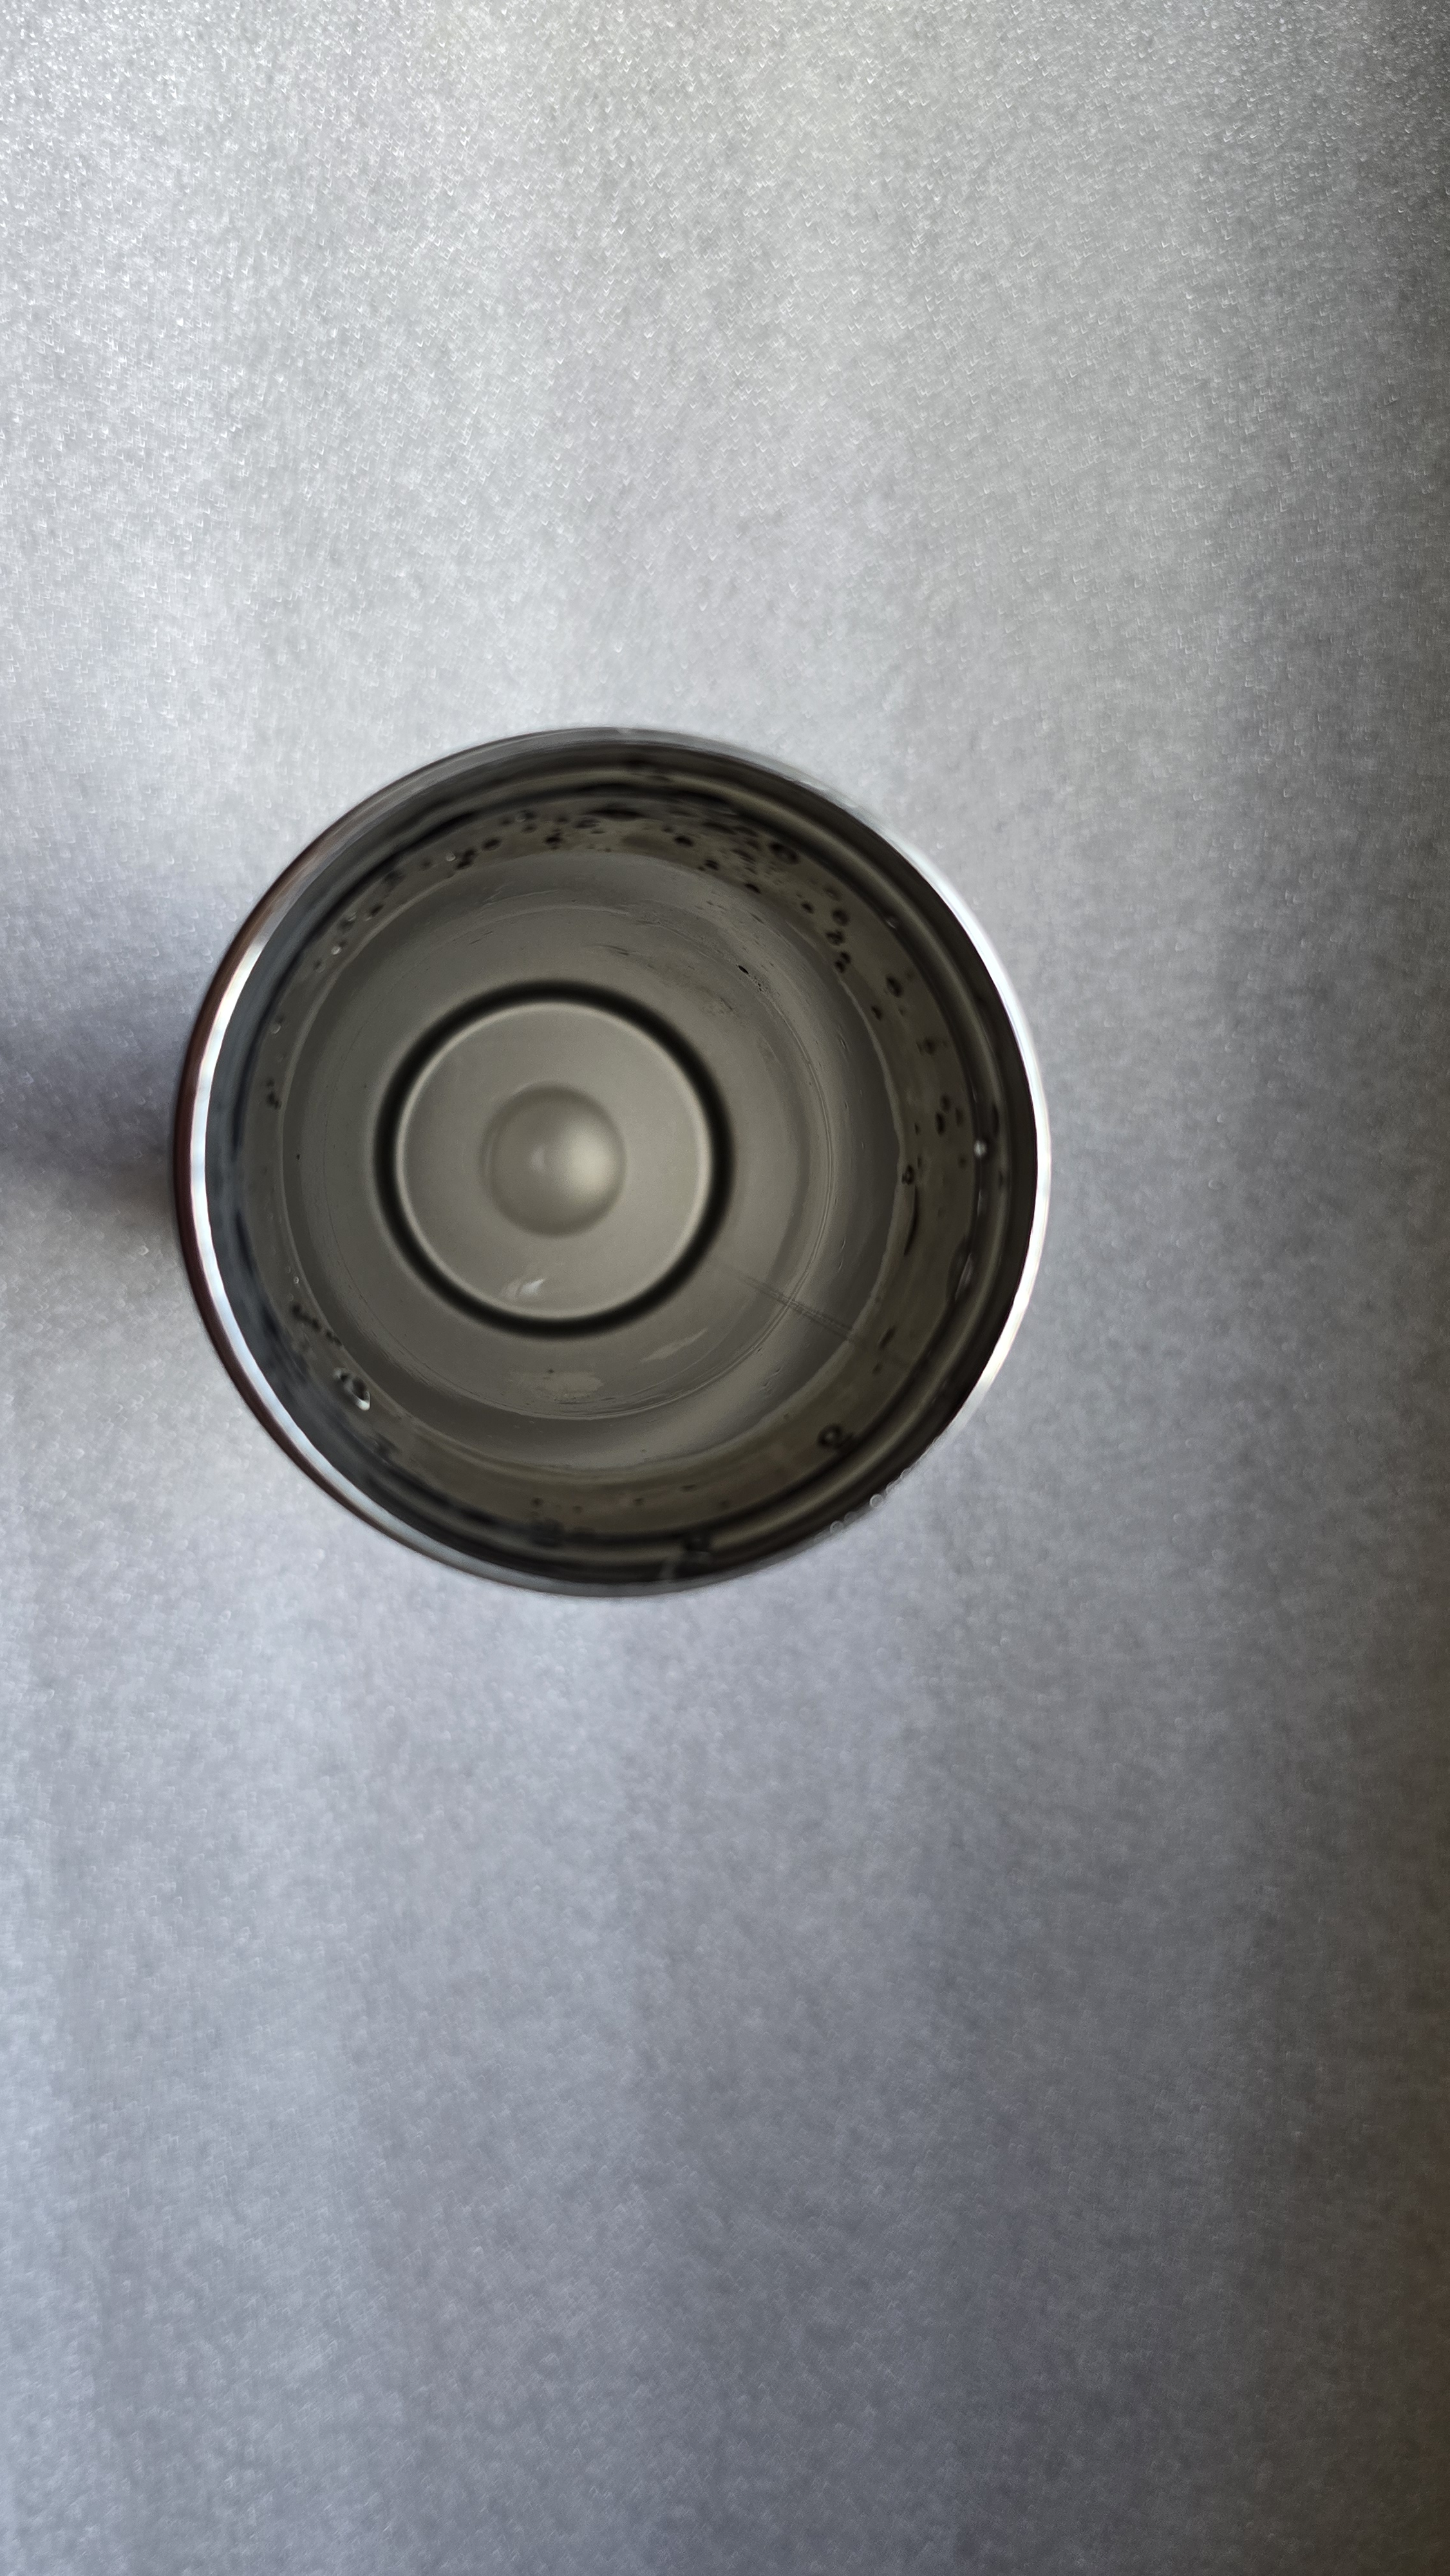bottle: (154, 695, 1082, 1601)
